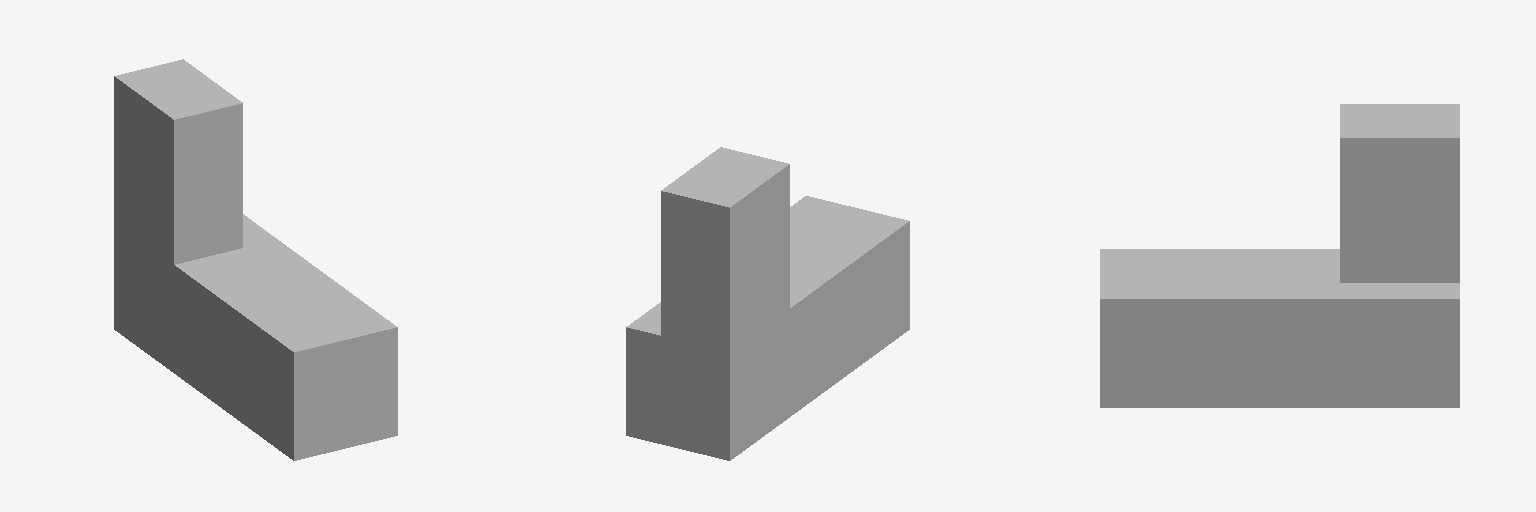
File: rightarm.obj
3 renders of one model, left to right at view 1: azimuth 30°, elevation 25°; view 2: azimuth 150°, elevation 25°; view 3: azimuth 270°, elevation 25°, orthographic.
Size of the model in its own units: 3 by 7 by 9.